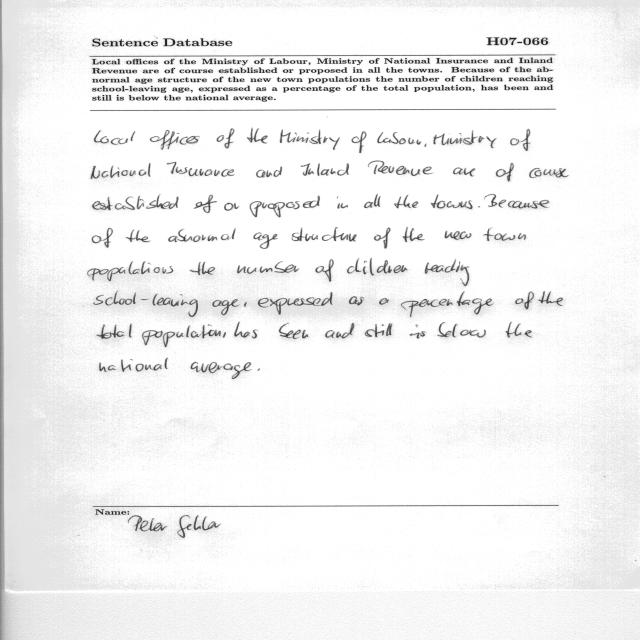word: (94, 291, 198, 317), (401, 292, 493, 317), (142, 324, 221, 347), (258, 292, 332, 315), (88, 262, 173, 282), (250, 196, 320, 217), (93, 195, 179, 211), (280, 130, 340, 150), (425, 260, 469, 286), (434, 131, 497, 149), (347, 258, 408, 275), (191, 362, 251, 379), (167, 162, 234, 177), (150, 130, 200, 150), (292, 227, 357, 242), (91, 163, 151, 179), (368, 161, 432, 176), (100, 358, 168, 372), (484, 194, 549, 208), (169, 229, 236, 242), (194, 195, 239, 213), (237, 261, 299, 274), (437, 322, 486, 338), (301, 163, 349, 176), (95, 131, 136, 145), (431, 195, 472, 209), (377, 132, 421, 145), (97, 324, 132, 339), (483, 229, 526, 241), (279, 323, 308, 339), (510, 129, 531, 151), (315, 259, 334, 282), (325, 323, 354, 338), (505, 322, 532, 338), (253, 232, 278, 249), (92, 228, 113, 248), (213, 299, 239, 315), (530, 168, 569, 178), (365, 323, 392, 337), (234, 322, 257, 338), (217, 129, 235, 149), (539, 291, 563, 306), (374, 228, 391, 249), (515, 292, 534, 310), (126, 230, 151, 243), (190, 262, 215, 275), (496, 163, 514, 181), (247, 129, 268, 144), (394, 195, 418, 208), (352, 131, 366, 153), (403, 228, 425, 242), (256, 167, 282, 178), (445, 231, 472, 240), (364, 194, 381, 208), (410, 325, 425, 339), (453, 168, 475, 177), (349, 297, 364, 306), (337, 197, 348, 209), (379, 298, 389, 305), (223, 332, 226, 338), (244, 302, 247, 307), (425, 144, 427, 147), (258, 368, 260, 371), (478, 206, 480, 208)
